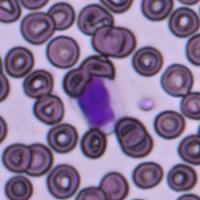M: (77, 75, 125, 131)
